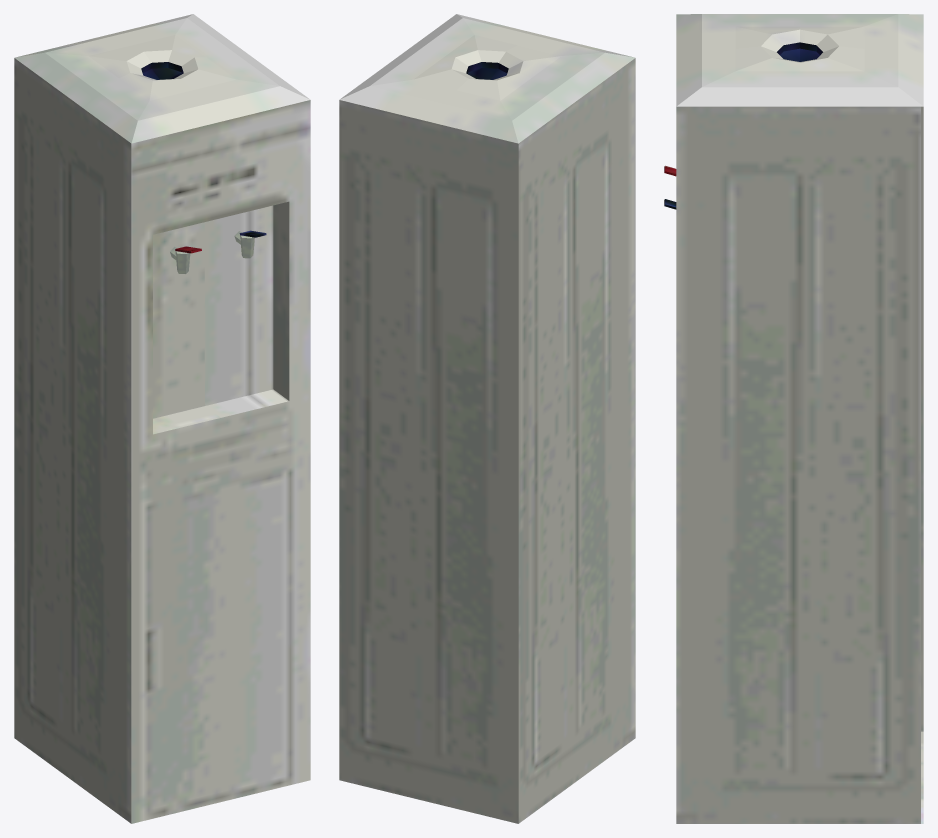
File: water_cooler.obj
The picture shows the model from 3 angles, left to right: view 1: azimuth 30°, elevation 25°; view 2: azimuth 150°, elevation 25°; view 3: azimuth 270°, elevation 25°; orthographic projection. The views are drawn at different scales.
Parts seen in each view (by area): view 1: water_cooler; view 2: water_cooler; view 3: water_cooler.
Boxes of the visible parts, box(x1,y1,x2,y2) form: water_cooler: box(14, 14, 310, 823); water_cooler: box(339, 14, 635, 823); water_cooler: box(664, 14, 923, 823).
Size of the model in its own units: 0.3776 by 1.4 by 0.4488.
